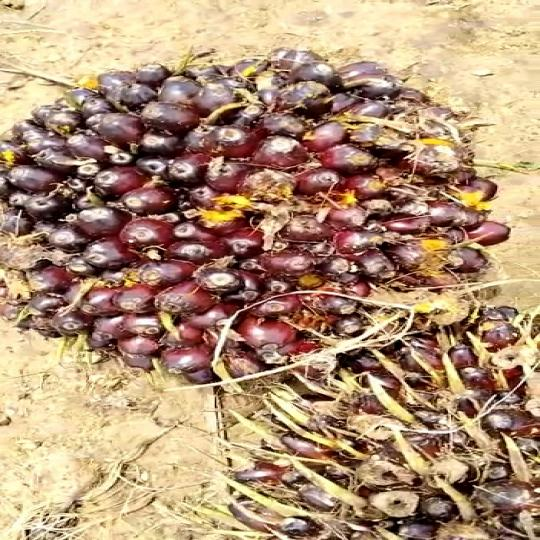kurang masak: (0, 42, 538, 369), (241, 311, 540, 540)
